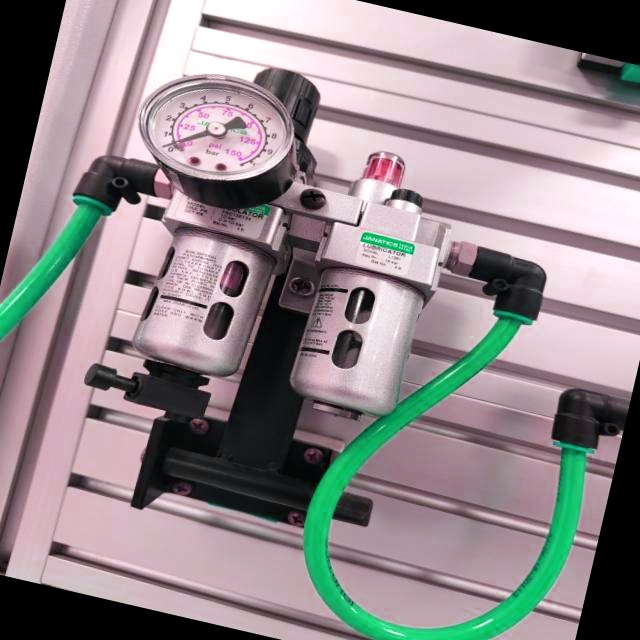FRL unit: (9, 22, 560, 589)
push button: (120, 55, 316, 222)
